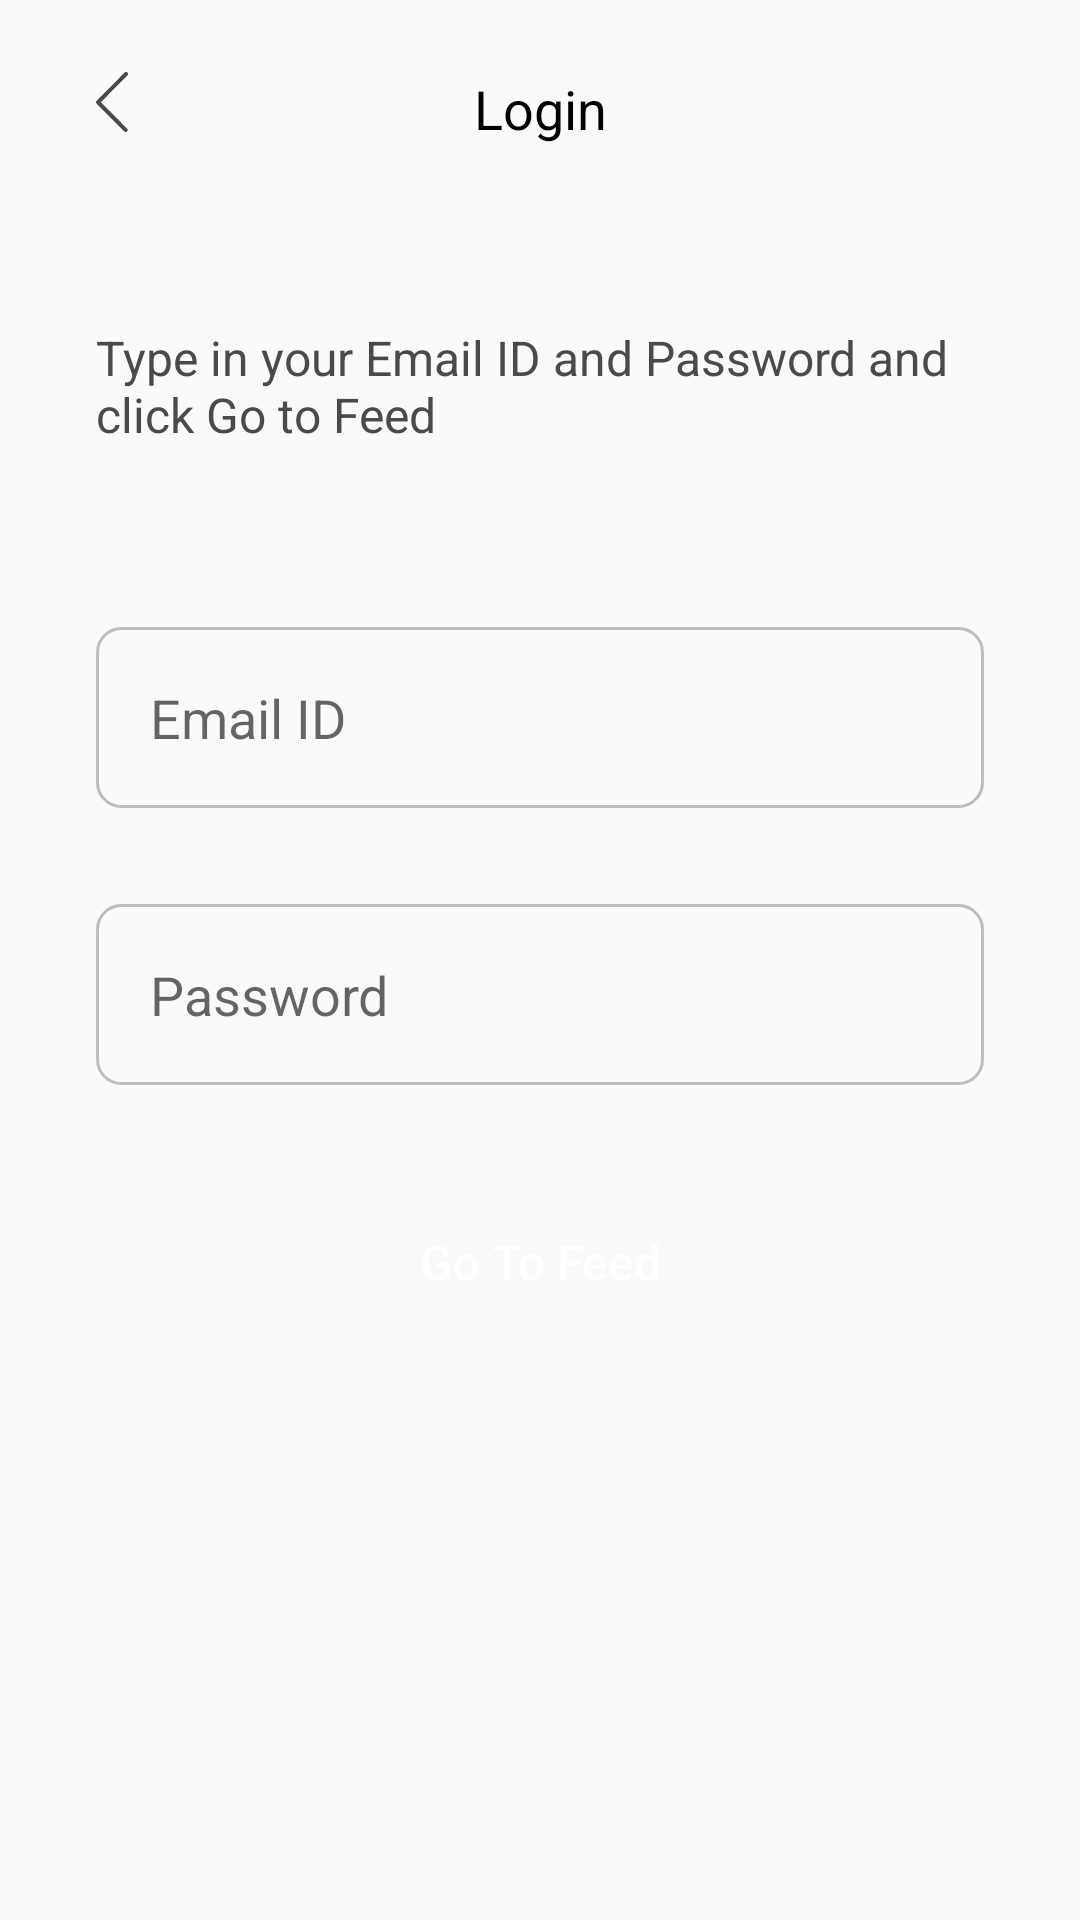

Screen size 1080*1920. Icon name, then its box in pixels as (x1, y1, x2, y2):
back post: (96, 72, 128, 132)
